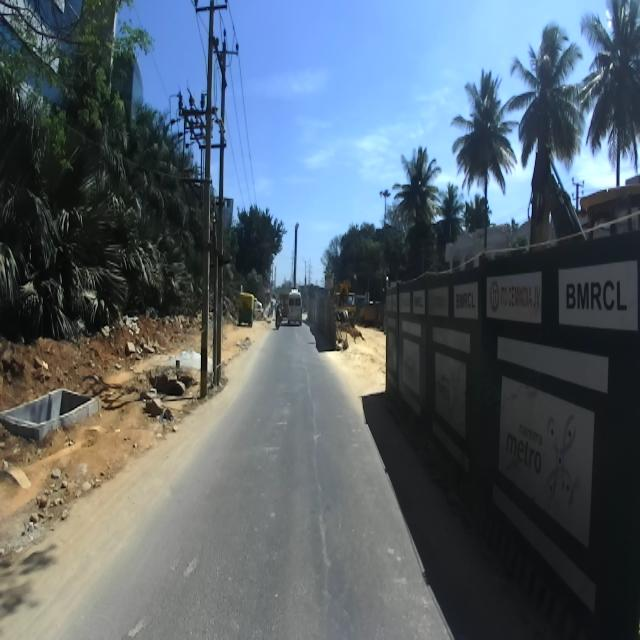electric pole ahead at: (174, 0, 245, 412)
stones ahead at: (1, 386, 101, 448)
